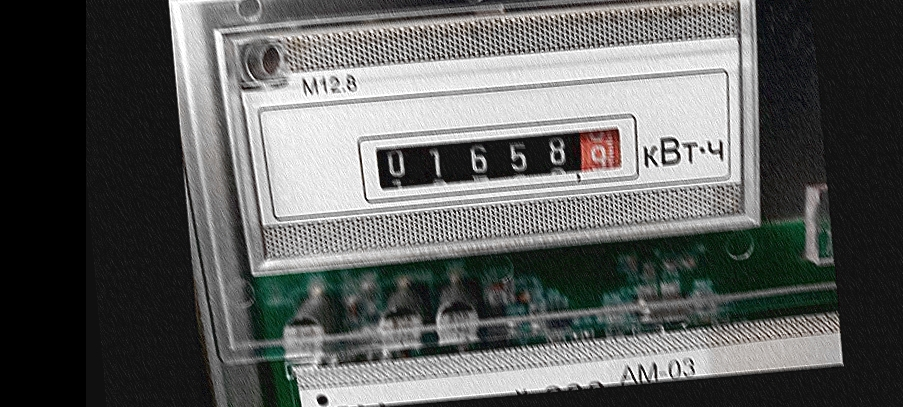0: (383, 145, 406, 179)
1: (427, 146, 443, 178)
5: (507, 139, 528, 173)
6: (467, 142, 489, 174)
8: (545, 134, 567, 167)
9: (586, 142, 606, 170)
screen: (348, 104, 645, 208)
